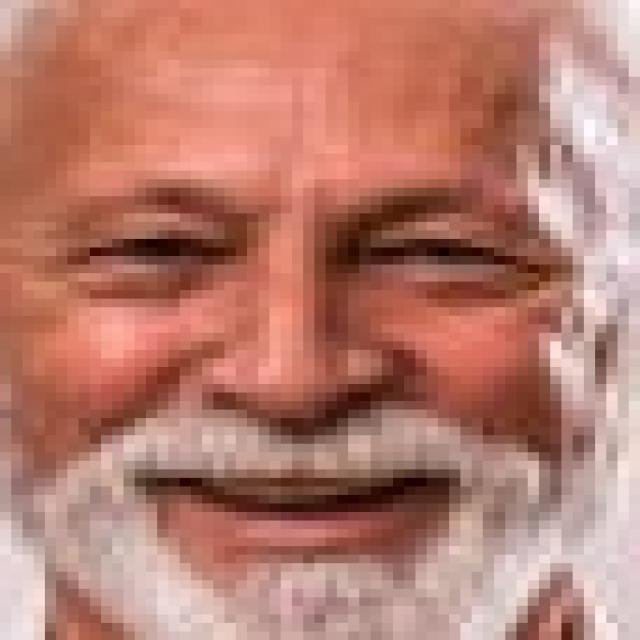Anxiety: (11, 2, 640, 631)
